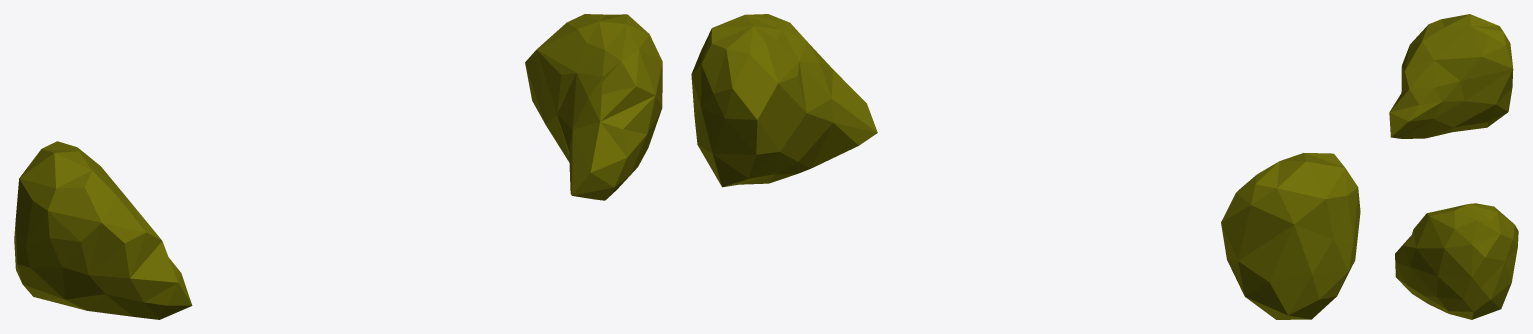
File: 84-CMnL-centromedian thalamic nucleus, lateral part-('0.4980', '0.4980', '0.0000').obj
3 renders of one model, left to right at view 1: azimuth 30°, elevation 25°; view 2: azimuth 150°, elevation 25°; view 3: azimuth 270°, elevation 25°, orthographic. The views are drawn at different scales.
Size of the model in its own units: 80.55 by 18.99 by 19.81.
